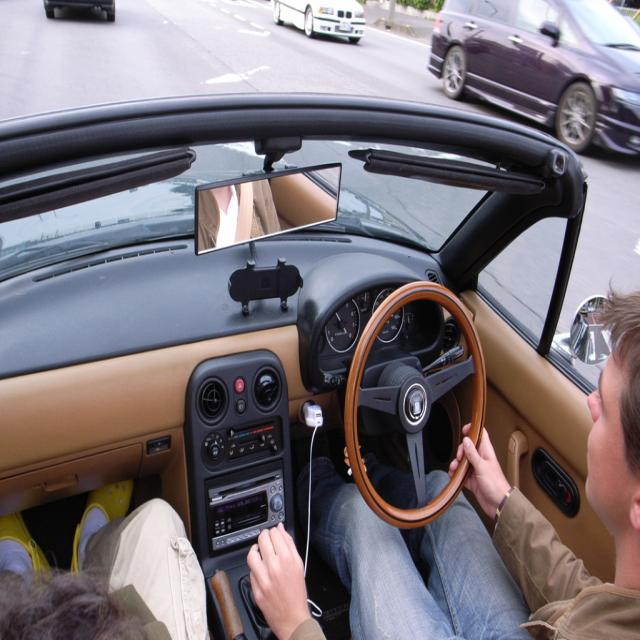car: (0, 38, 598, 614)
